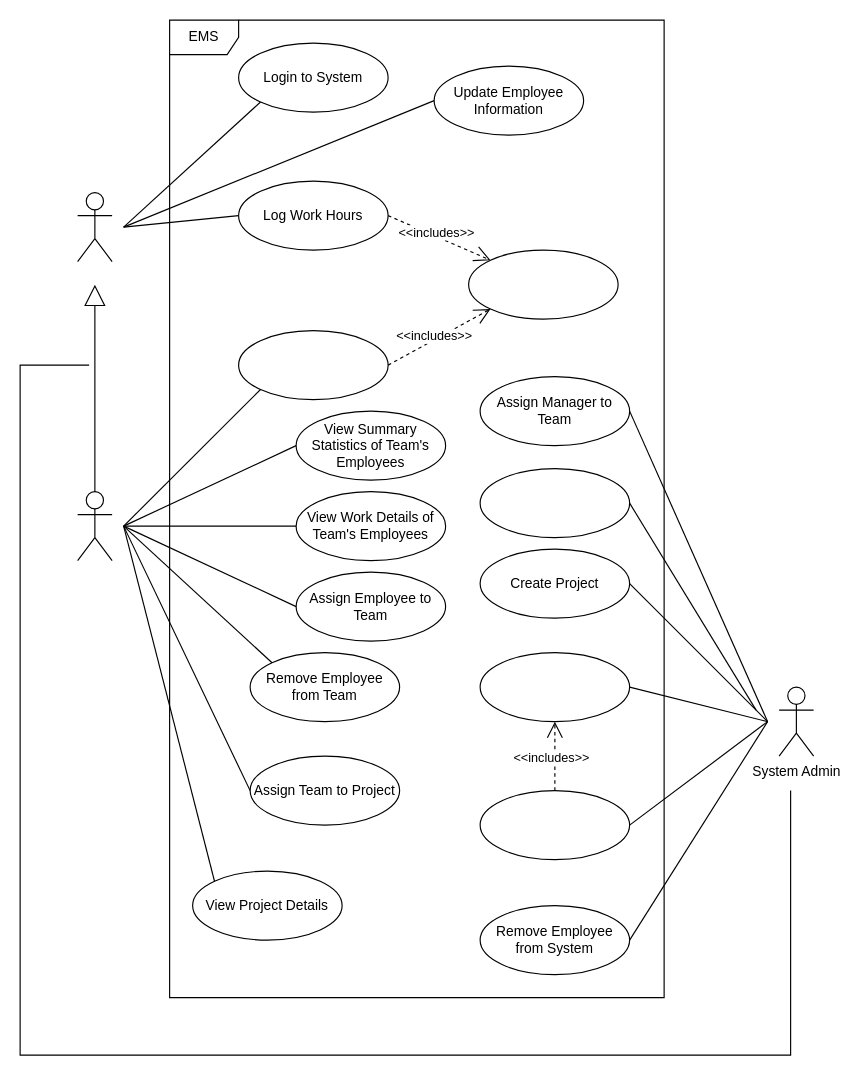
The diagram is 860 pixels wide and 1076 high, and some of its shapes have lost their labels. The centre of each missing label's shape, as x and y in pixels:
"Correct Team Employee's Work Hours" belongs at [312,364].
"Create Team" belongs at [554,502].
"Employee" belongs at [94,226].
"Manager" belongs at [94,525].
"Register employee" belongs at [554,824].
"Report Work Hour Type" belongs at [542,284].
"Set Employee Role" belongs at [554,686].
